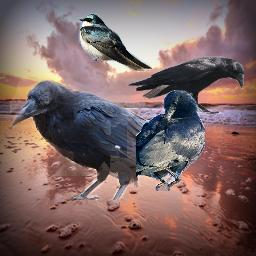Crow: (10, 77, 158, 200), (136, 90, 205, 191), (126, 56, 244, 114)
Swallow: (78, 13, 153, 71)
